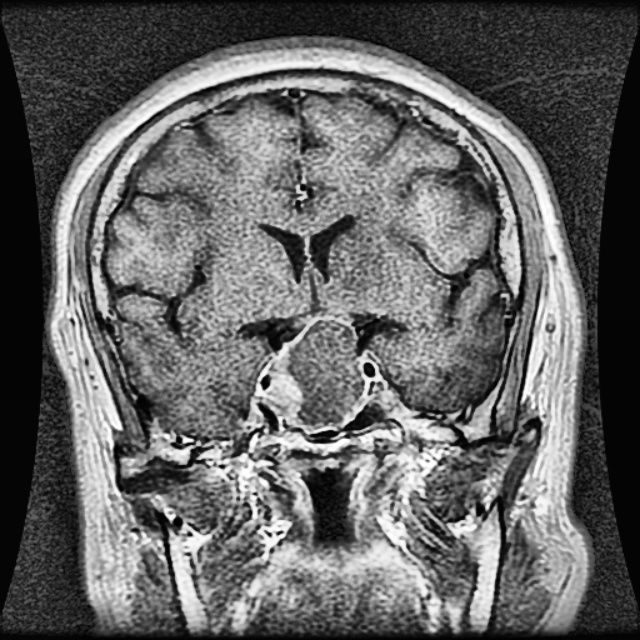Pituitary: (269, 318, 364, 429)
